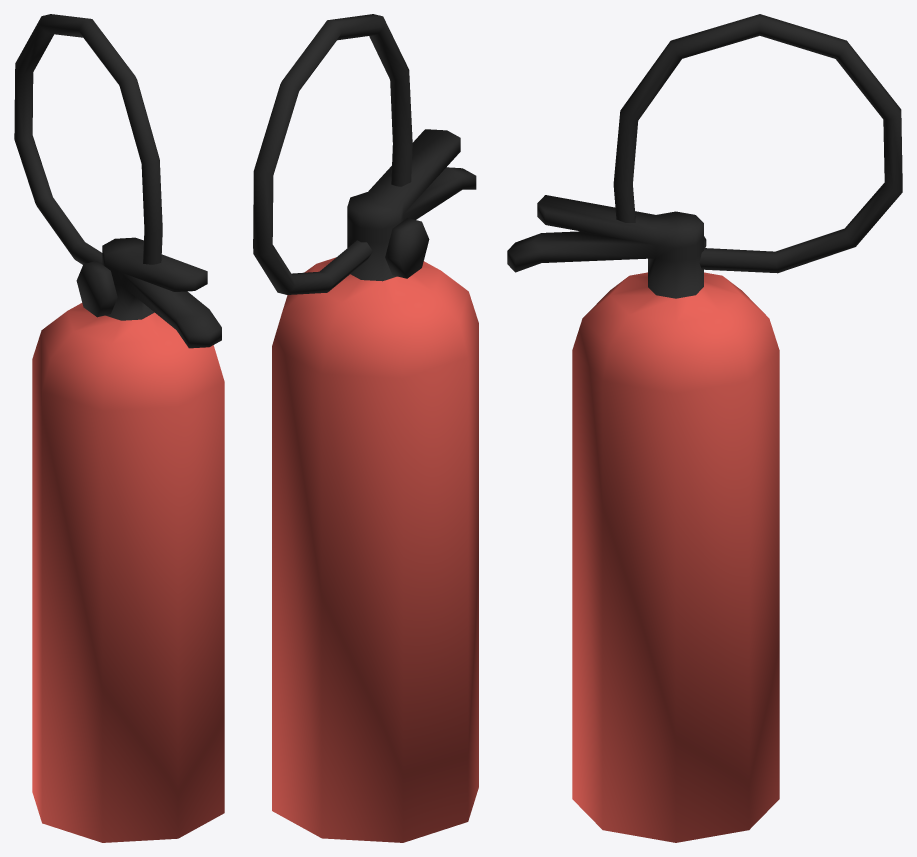
File: Extintor.fbx
3 renders of one model, left to right at view 1: azimuth 30°, elevation 25°; view 2: azimuth 150°, elevation 25°; view 3: azimuth 270°, elevation 25°, orthographic. The views are drawn at different scales.
Visible parts, largest first — view 1: Plano; view 2: Plano; view 3: Plano.
Part boxes in pixels (x1,y1,x2,y2): Plano: (14, 14, 224, 842); Plano: (253, 14, 478, 842); Plano: (507, 14, 902, 842).
Bounding box in the file's own units: 39.21 × 163 × 74.85.
